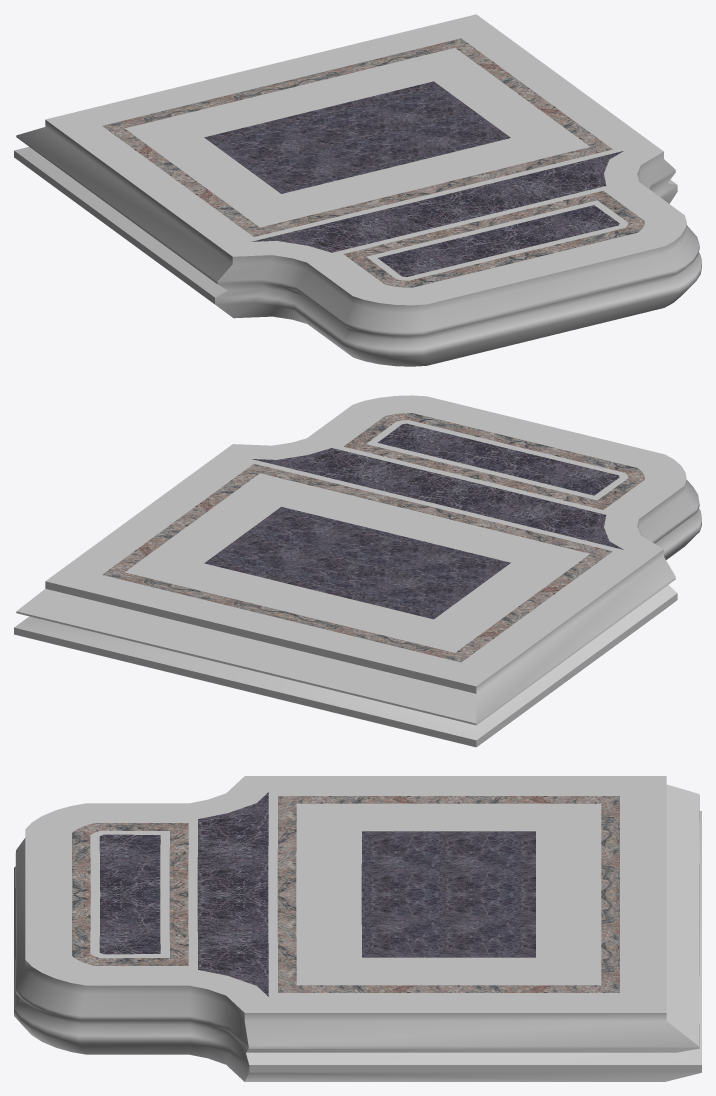
Rendered from Balcony.FBX.
The picture shows the model from 3 angles, top to bottom: view 1: azimuth 30°, elevation 25°; view 2: azimuth 150°, elevation 25°; view 3: azimuth 270°, elevation 25°; orthographic projection. The views are drawn at different scales.
Parts seen in each view (by area): view 1: Balcony; view 2: Balcony; view 3: Balcony.
Boxes of the visible parts, box(x1,y1,x2,y2) form: Balcony: box(14, 14, 701, 366); Balcony: box(14, 395, 701, 747); Balcony: box(14, 776, 701, 1081).
Size of the model in its own units: 6.43 by 0.8473 by 7.36.
